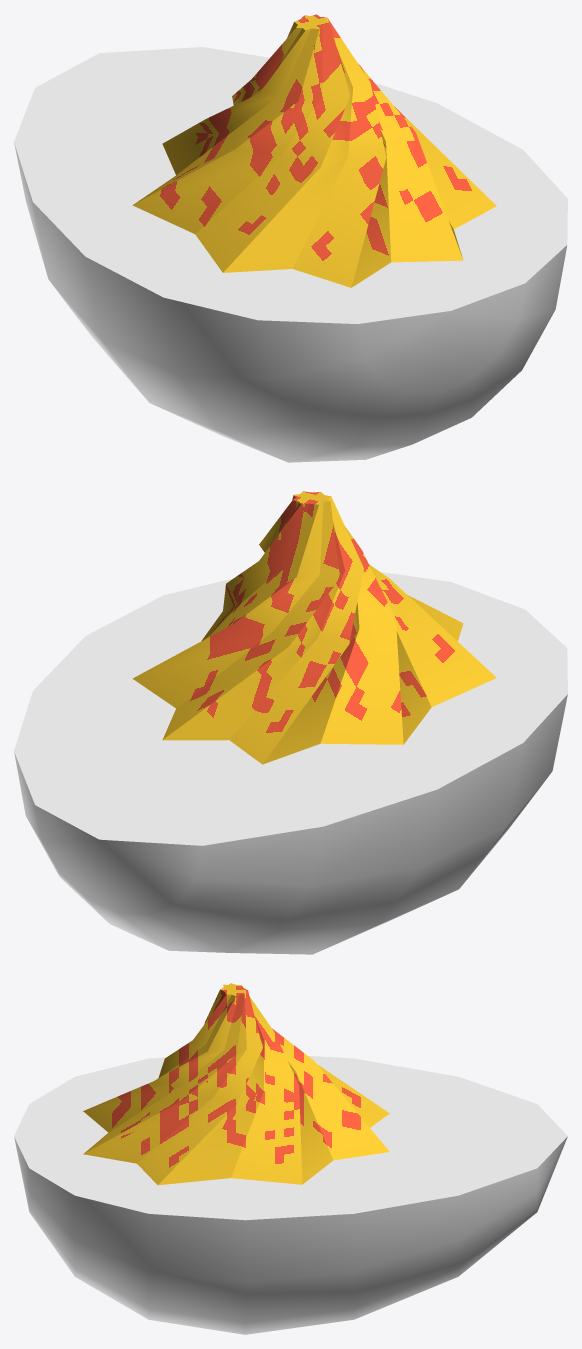
The model's file is deviled-egg.glb.
3 renders of one model, top to bottom at view 1: azimuth 30°, elevation 25°; view 2: azimuth 150°, elevation 25°; view 3: azimuth 270°, elevation 25°, orthographic. The views are drawn at different scales.
Parts seen in each view (by area): view 1: Sphere; view 2: Sphere; view 3: Sphere.
Part boxes in pixels (x1=…): Sphere: x1=14, y1=14, x2=567, y2=462; Sphere: x1=14, y1=491, x2=567, y2=954; Sphere: x1=14, y1=983, x2=567, y2=1334.
Bounding box in the file's own units: 1 × 0.9063 × 1.39.
1 material, 1 textured.
